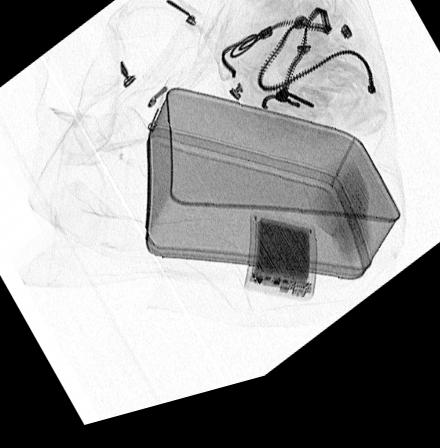Powerbank: (241, 227, 318, 319)
